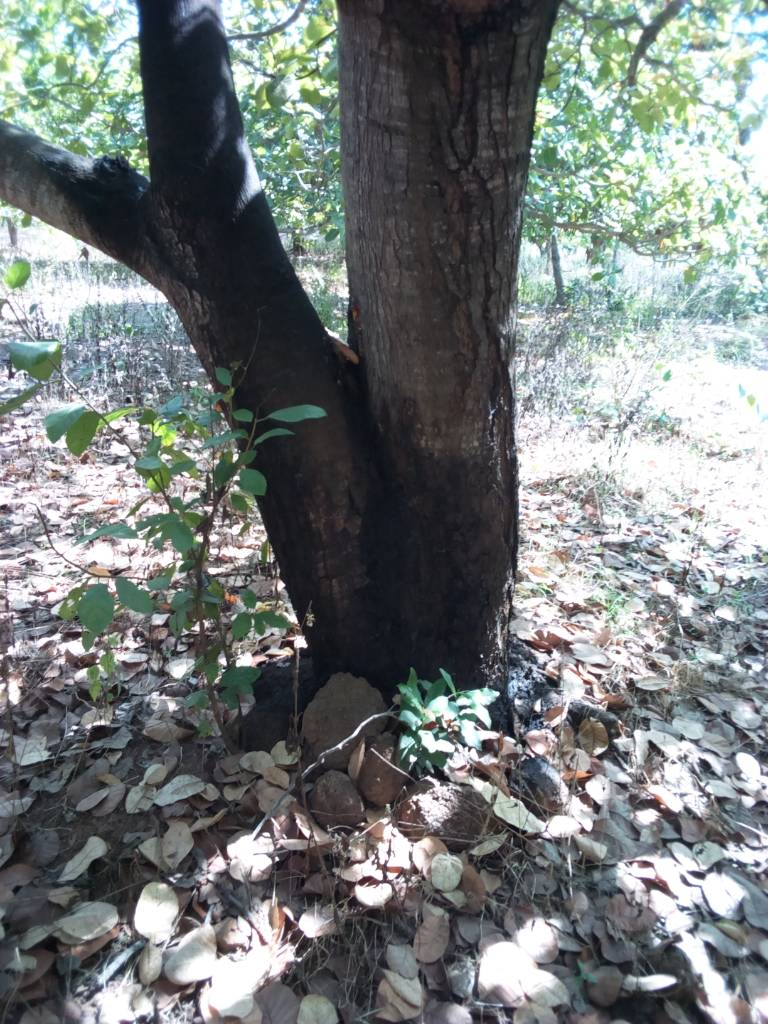Gommose: (340, 478, 490, 669), (38, 139, 163, 263)
